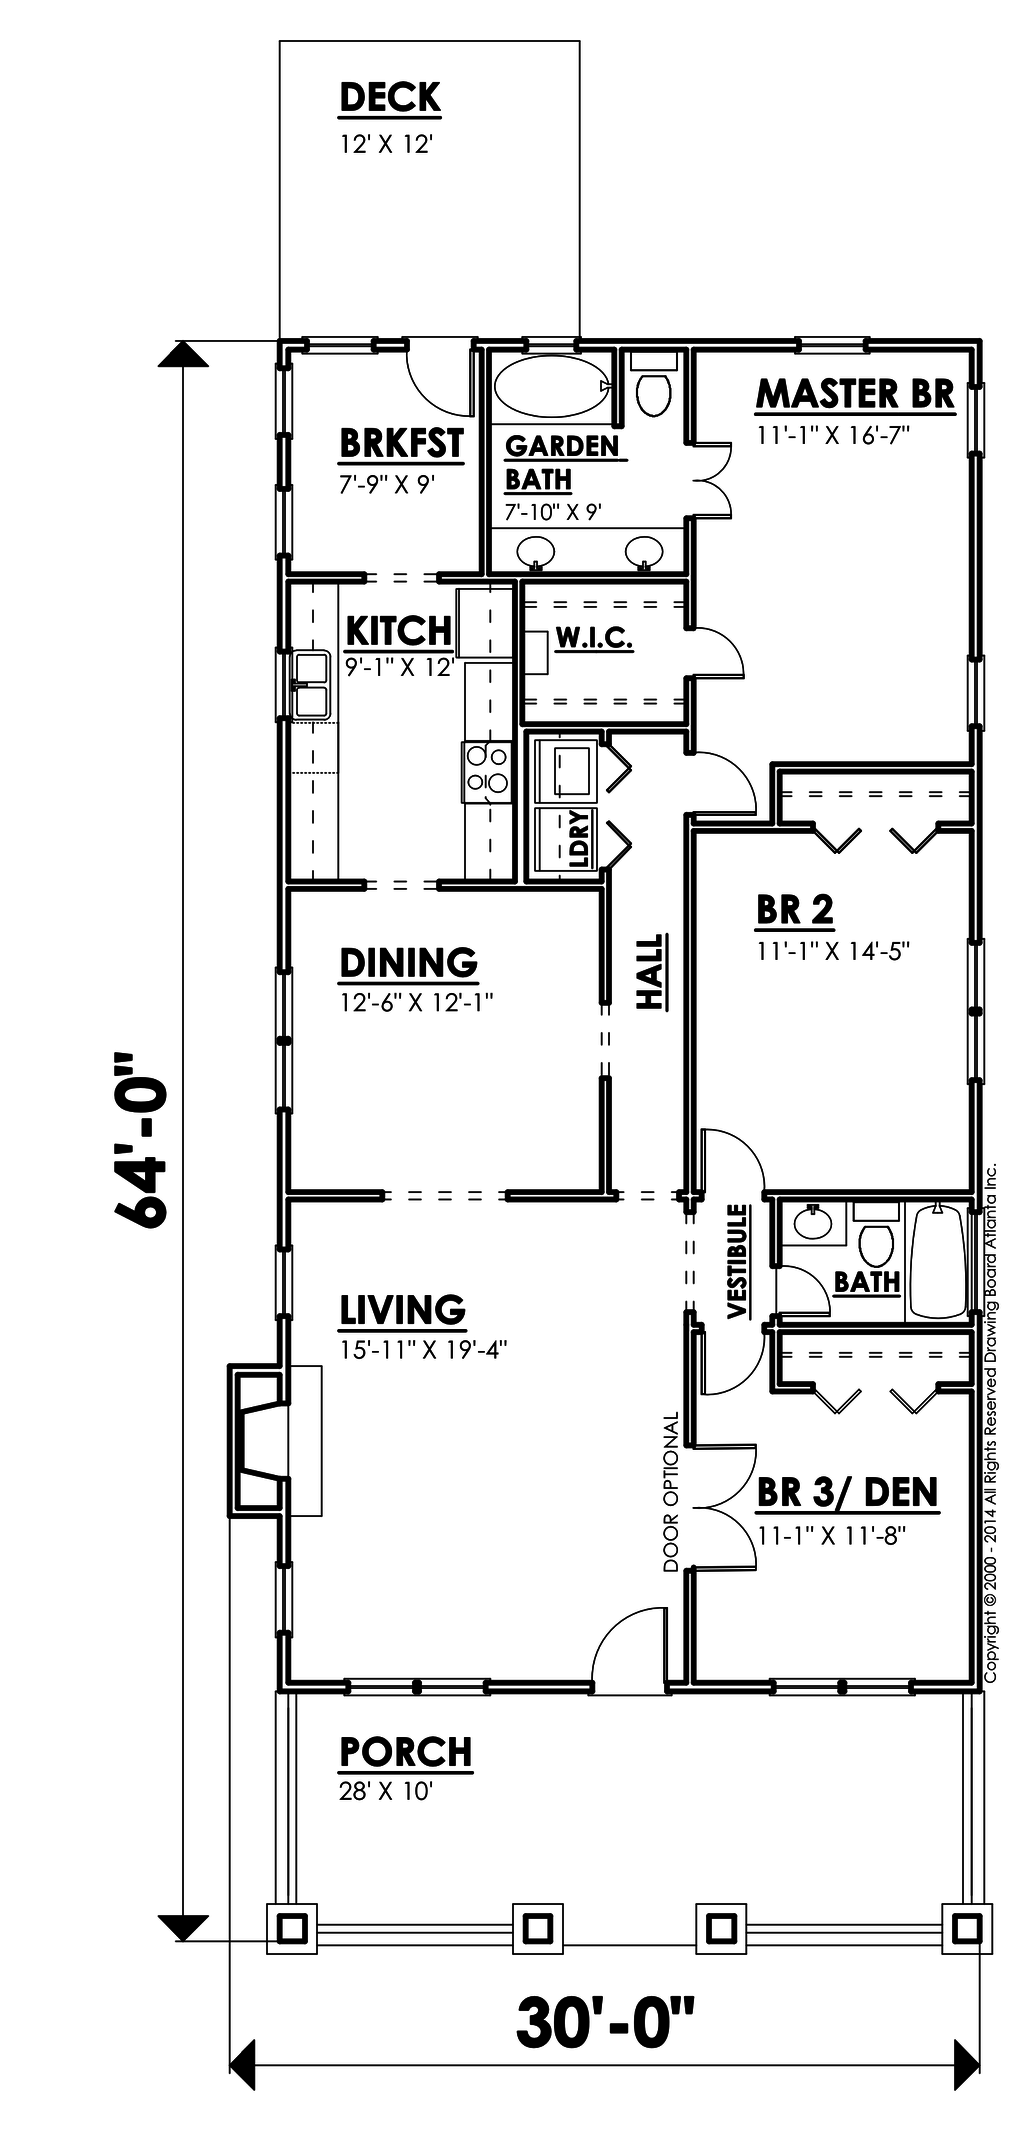door: (581, 1596, 686, 1703), (386, 330, 483, 439), (690, 1446, 776, 1569), (684, 426, 770, 540), (693, 1120, 782, 1212), (684, 740, 773, 827), (690, 1320, 780, 1401), (679, 612, 756, 691)
large_sink: (626, 360, 693, 426)
small_sink: (502, 507, 684, 584)
tub: (480, 323, 620, 430)
twin_sink: (246, 643, 366, 736)
window: (343, 1653, 533, 1730), (259, 356, 323, 570), (250, 956, 329, 1105), (749, 1656, 920, 1709), (255, 1230, 310, 1336), (266, 1553, 313, 1653)
